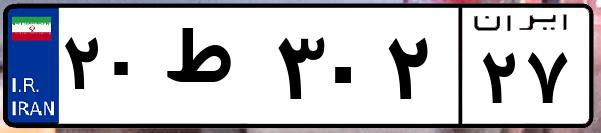0: (330, 28, 385, 110), (110, 28, 158, 98)
2: (385, 28, 445, 110), (57, 26, 110, 100), (475, 38, 525, 113)
3: (270, 28, 330, 110)
7: (525, 38, 570, 115)
ط: (158, 20, 270, 120)
